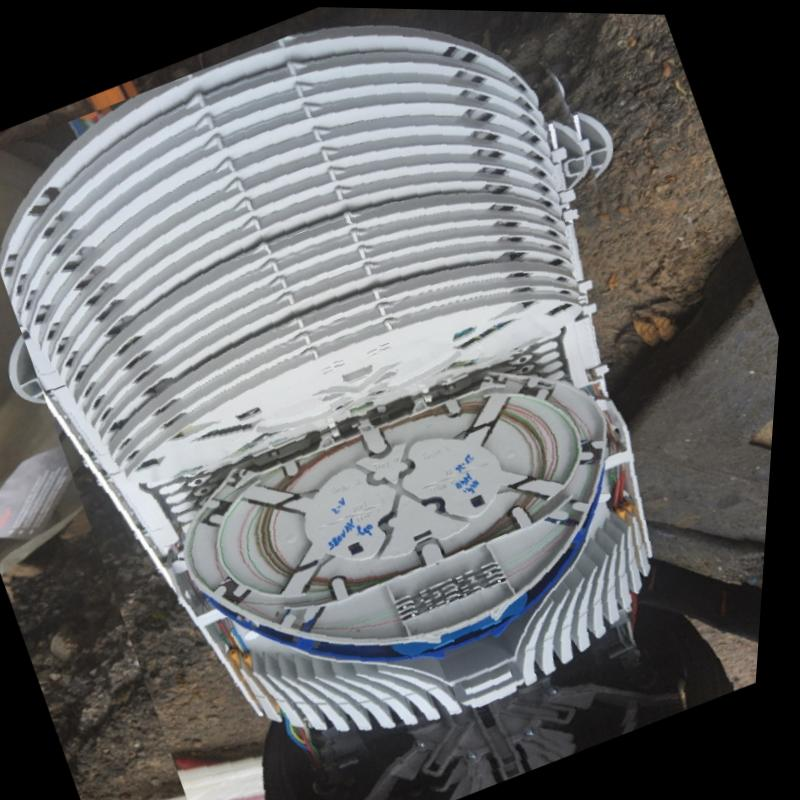NT-Muffen: (9, 24, 740, 800)
